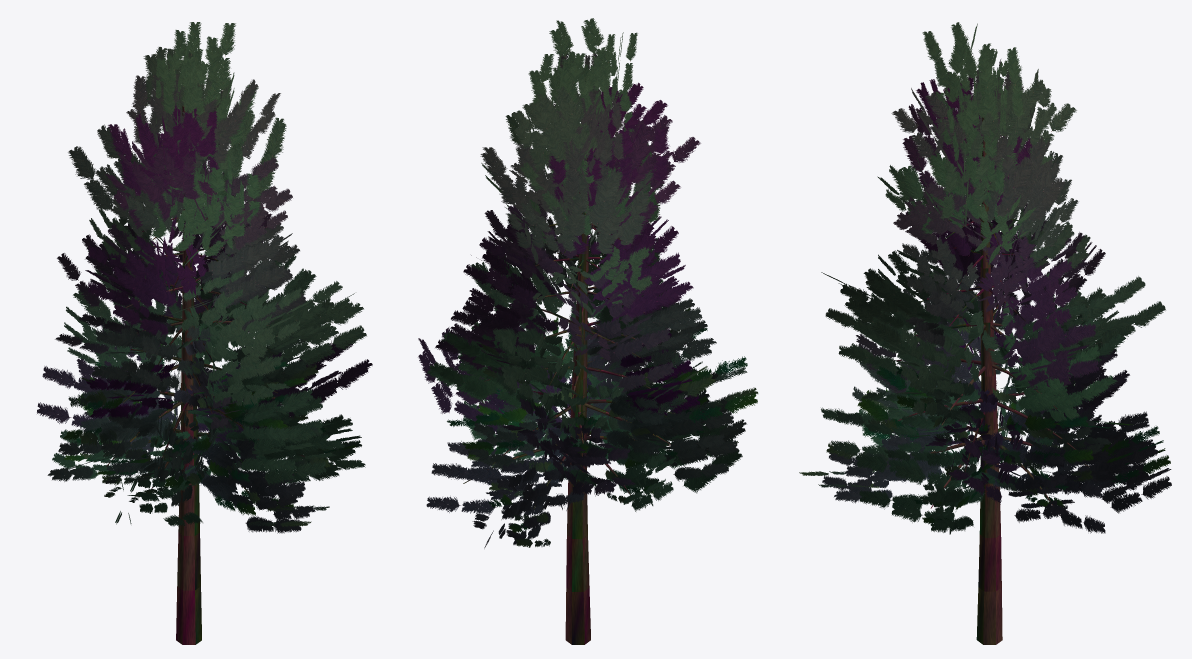
The model's file is nat_pine_a_LOD1.glb.
3 views of the same model, side by side, from view 1: azimuth 30°, elevation 25°; view 2: azimuth 150°, elevation 25°; view 3: azimuth 270°, elevation 25° (orthographic). The views are drawn at different scales.
Visible parts, largest first — view 1: nat_pine_a_LOD1; view 2: nat_pine_a_LOD1; view 3: nat_pine_a_LOD1.
Part boxes in pixels (x1=…): nat_pine_a_LOD1: x1=37, y1=22, x2=372, y2=644; nat_pine_a_LOD1: x1=418, y1=18, x2=758, y2=644; nat_pine_a_LOD1: x1=799, y1=22, x2=1171, y2=644.
Bounding box in the file's own units: 7.35 × 12.86 × 7.25.
Materials: 2 (2 with a texture image).
